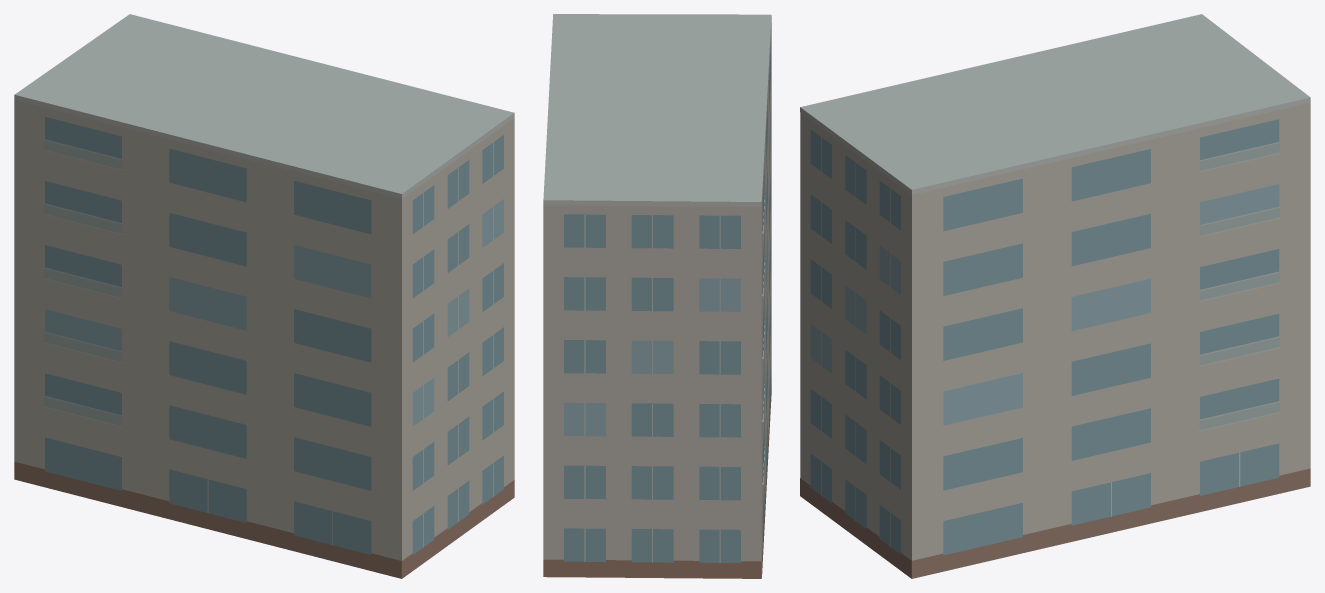
File: survey-upis-33047175.glb
3 renders of one model, left to right at view 1: azimuth 30°, elevation 25°; view 2: azimuth 150°, elevation 25°; view 3: azimuth 270°, elevation 25°, orthographic. The views are drawn at different scales.
Parts seen in each view (by area): view 1: survey-upis-33047175.tmp; view 2: survey-upis-33047175.tmp; view 3: survey-upis-33047175.tmp.
Boxes of the visible parts, bbox=[...] form: survey-upis-33047175.tmp: bbox=[14, 14, 514, 578]; survey-upis-33047175.tmp: bbox=[543, 14, 771, 578]; survey-upis-33047175.tmp: bbox=[800, 14, 1310, 578].
Bounding box in the file's own units: 18.05 × 18.6 × 22.13.
